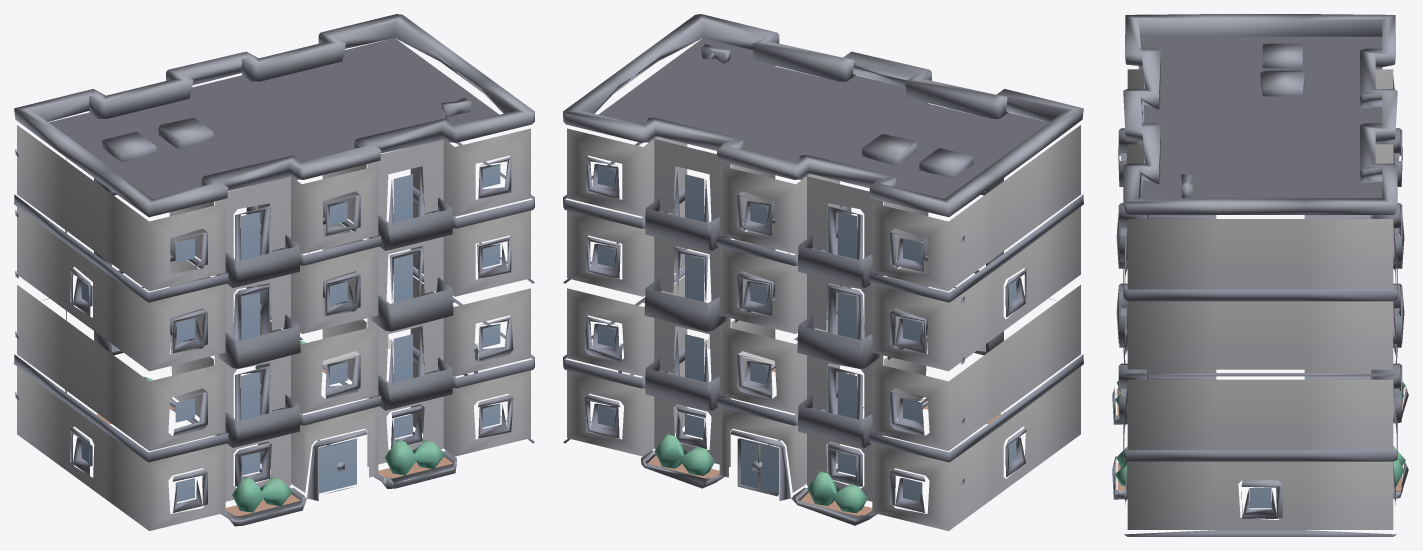
The picture shows the model from 3 angles, left to right: view 1: azimuth 30°, elevation 25°; view 2: azimuth 150°, elevation 25°; view 3: azimuth 270°, elevation 25°; orthographic projection.
Bounding box in the file's own units: 16.46 × 13.44 × 10.72.
